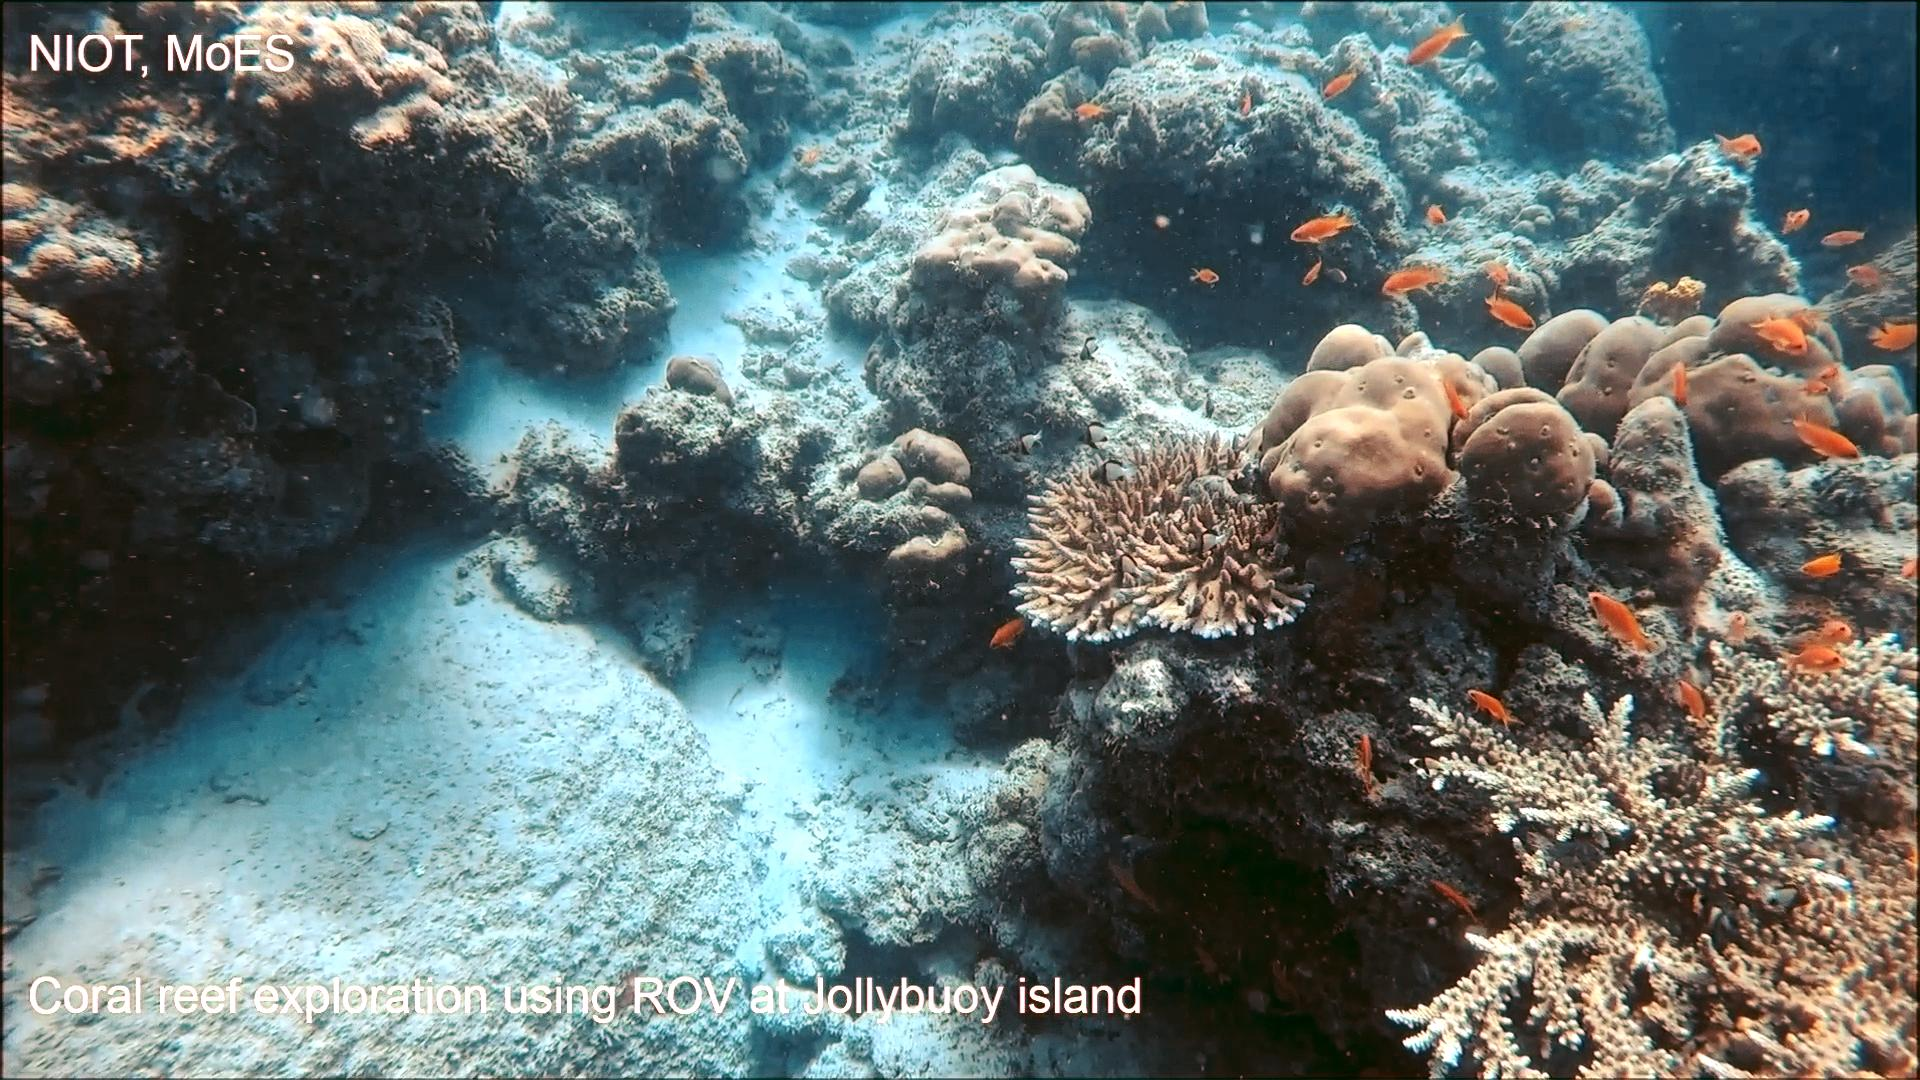Porites-Porites pukoensis: (1244, 320, 1605, 555), (1518, 278, 1920, 467)
